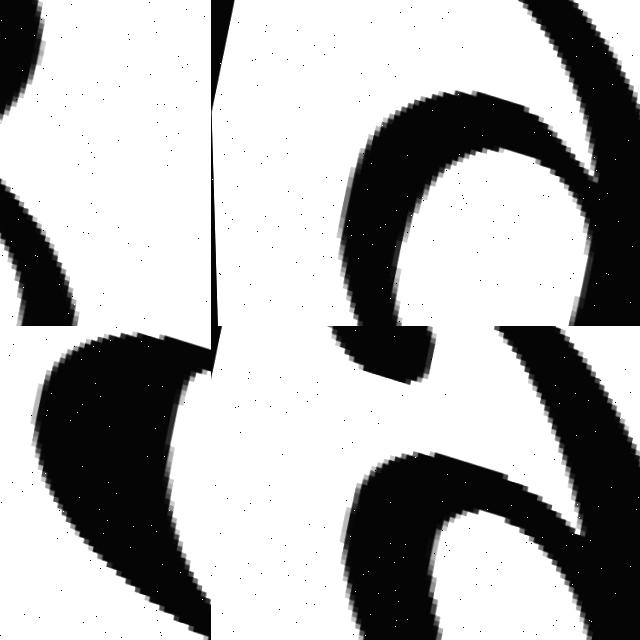6: (215, 326, 640, 640), (279, 0, 640, 326)
8: (0, 0, 173, 326)
E: (31, 329, 211, 640)
